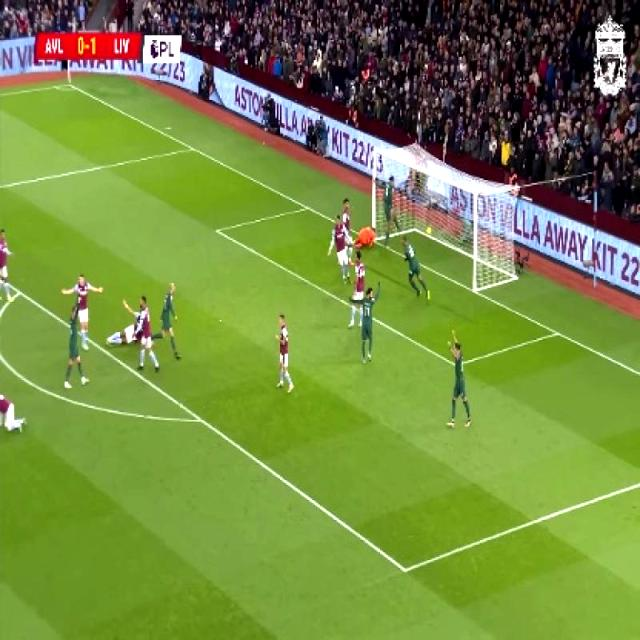bigarea_bottom_inner: (391, 548, 419, 589)
bigarea_top_outter: (185, 138, 200, 157)
bottom_arc_area_intersection: (189, 404, 211, 432)
corner: (56, 76, 78, 92)
smallarea_bottom_outter: (544, 318, 568, 346)
smallarea_top_inner: (206, 216, 226, 242)
smallarea_top_outter: (298, 195, 316, 217)
top_arc_area_intersection: (9, 280, 28, 303)
